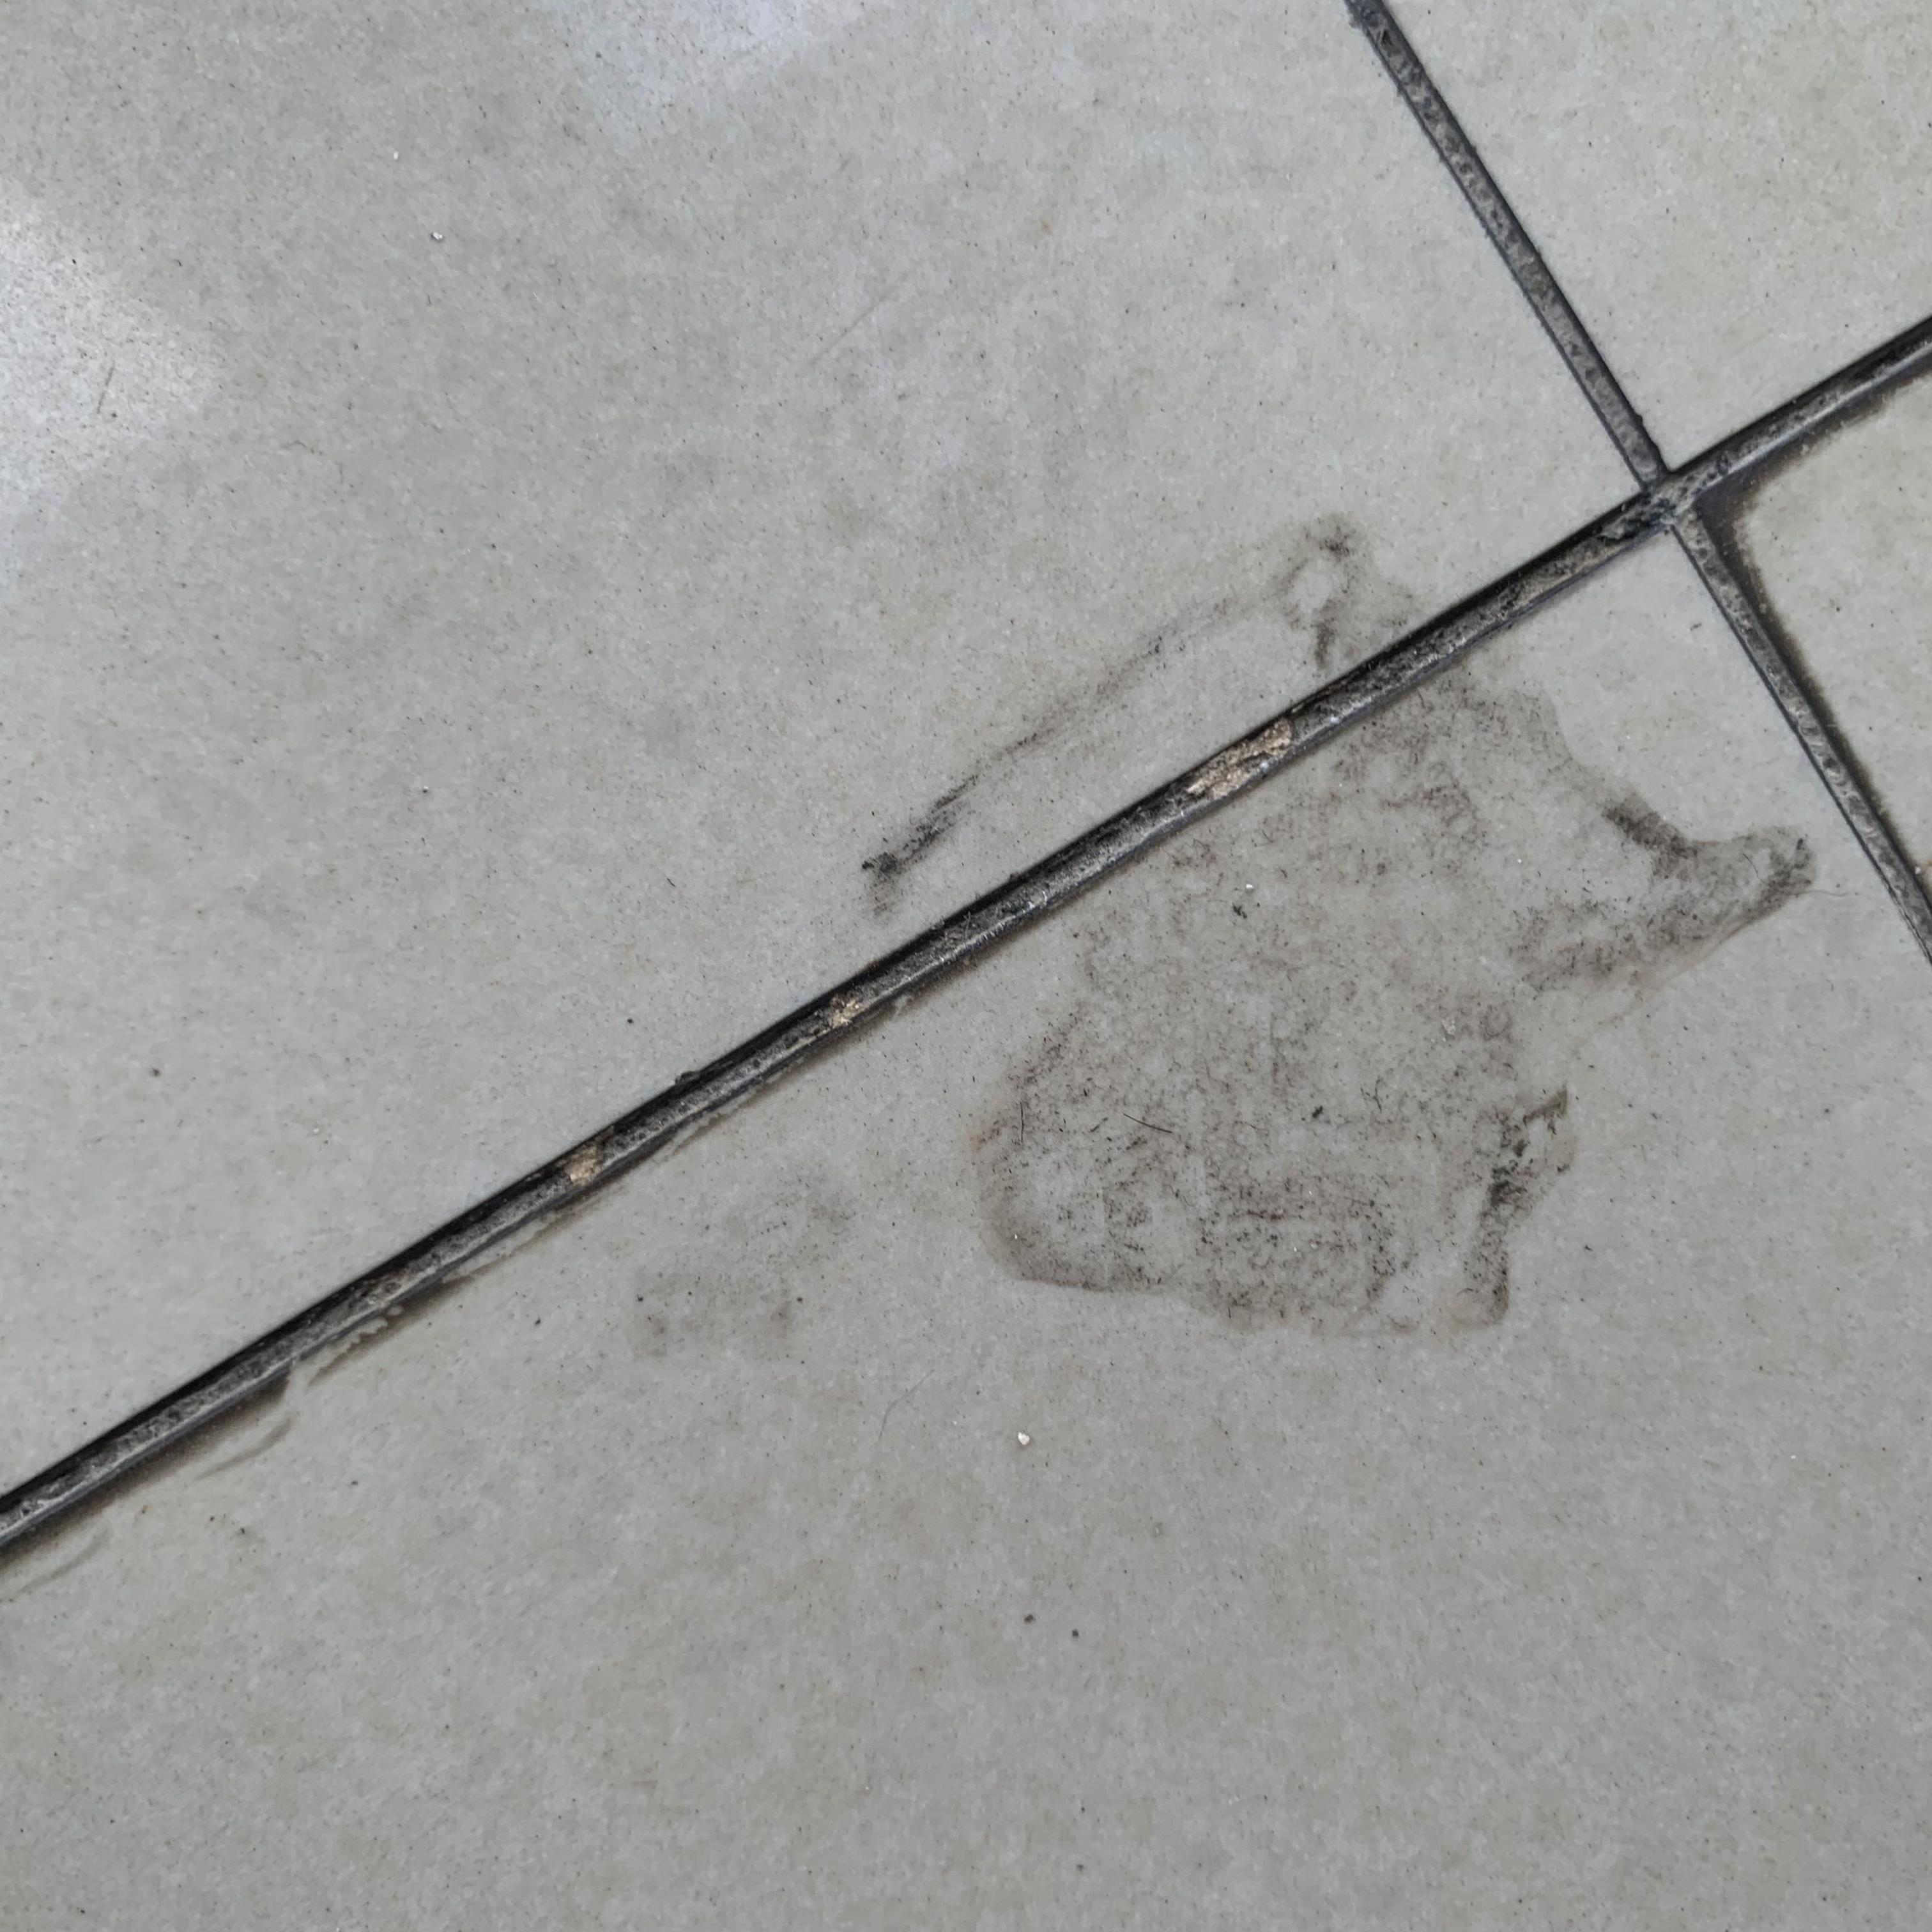grey spot: (856, 515, 1822, 1341)
reflection: (2, 172, 212, 533), (566, 0, 879, 142)
